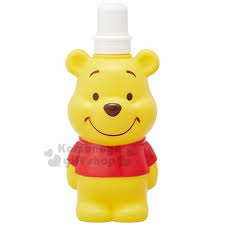Winnie: (63, 45, 165, 171)
